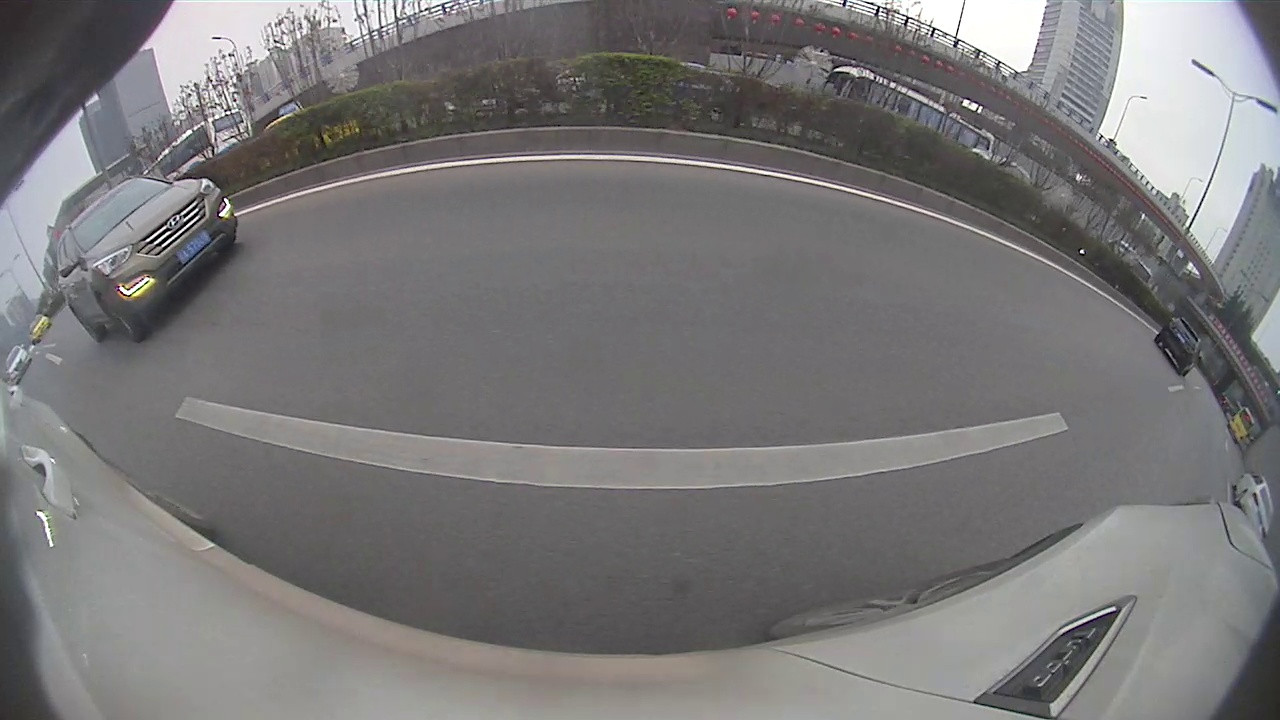car: (57, 178, 237, 342), (1156, 316, 1201, 377)
front: (103, 298, 144, 341)
rear: (73, 306, 101, 341)
